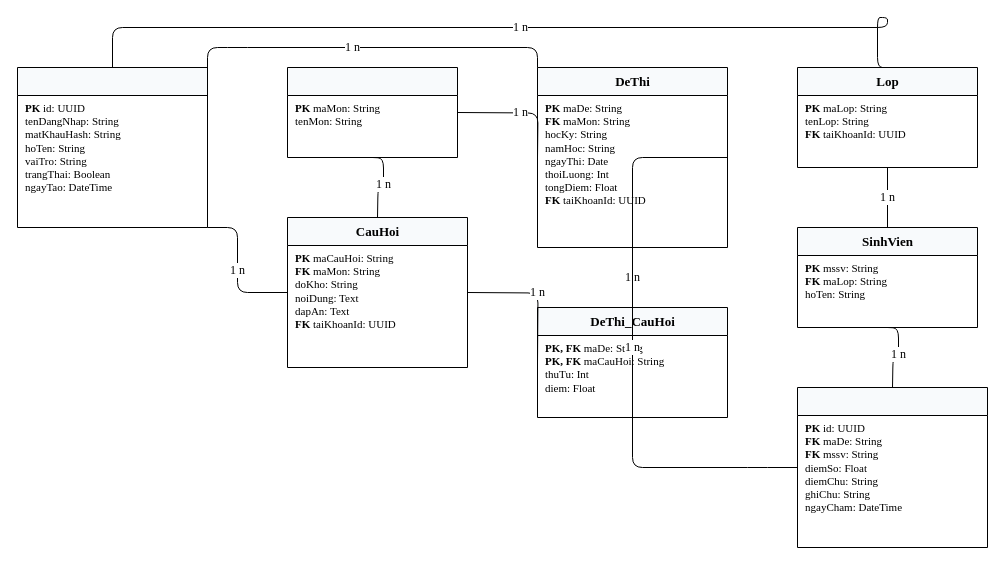
The diagram is 1005 pixels wide and 568 high, and some of its shapes have lost their labels. The shapes that lost their labels are listed below. From the top down, each one's box as (x1, y1, x2, y2) in pixels, then its label:
(286, 66, 458, 158): MonHoc
(16, 66, 208, 228): TaiKhoan
(796, 386, 988, 548): KetQuaThi
